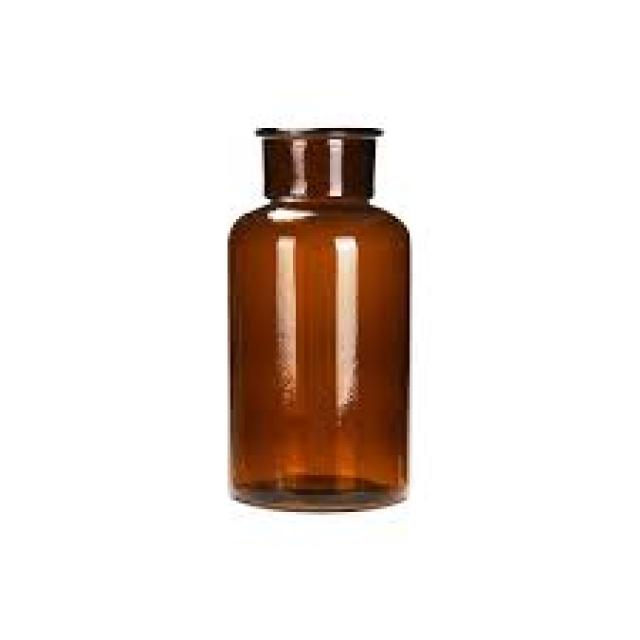glass: (230, 128, 407, 506)
